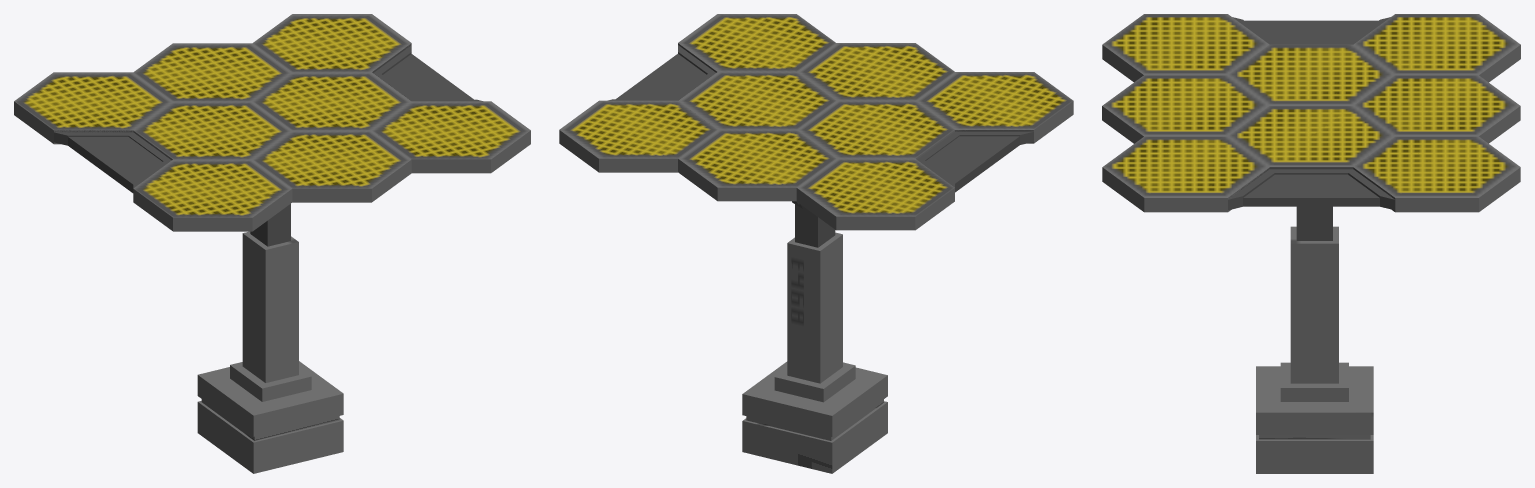
File: modern_solarpanel.obj
3 views of the same model, side by side, from view 1: azimuth 30°, elevation 25°; view 2: azimuth 150°, elevation 25°; view 3: azimuth 270°, elevation 25° (orthographic). The views are drawn at different scales.
Parts seen in each view (by area): view 1: panels, base; view 2: panels, base; view 3: panels, base.
Boxes of the visible parts, x1=… form: panels: x1=14, y1=14, x2=530, y2=231; base: x1=197, y1=204, x2=343, y2=473; panels: x1=559, y1=14, x2=1073, y2=230; base: x1=742, y1=204, x2=887, y2=473; panels: x1=1102, y1=14, x2=1520, y2=212; base: x1=1256, y1=206, x2=1373, y2=473.
Size of the model in its own units: 3.51 by 3.07 by 3.38.
